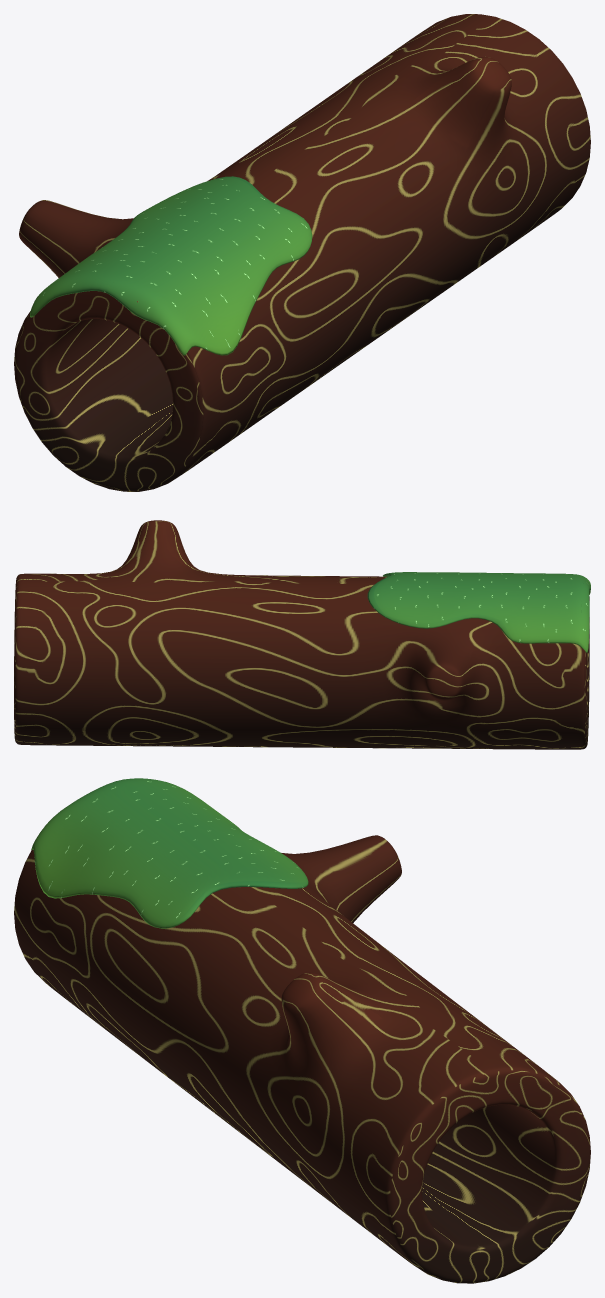
Rendered from 横树木.fbx.
3 views of the same model, one above another, from view 1: azimuth 30°, elevation 25°; view 2: azimuth 150°, elevation 25°; view 3: azimuth 270°, elevation 25° (orthographic). The views are drawn at different scales.
Parts seen in each view (by area): view 1: 柱体, 柱体.001; view 2: 柱体, 柱体.001; view 3: 柱体, 柱体.001.
Boxes of the visible parts, box(x1,y1,x2,y2) form: 柱体: box(14, 14, 590, 491); 柱体.001: box(30, 176, 312, 355); 柱体: box(14, 520, 589, 749); 柱体.001: box(367, 572, 590, 652); 柱体: box(14, 835, 590, 1283); 柱体.001: box(31, 778, 308, 928).
Size of the model in its own units: 10.03 by 3.58 by 7.3.
Materials: 2 (2 with a texture image).
